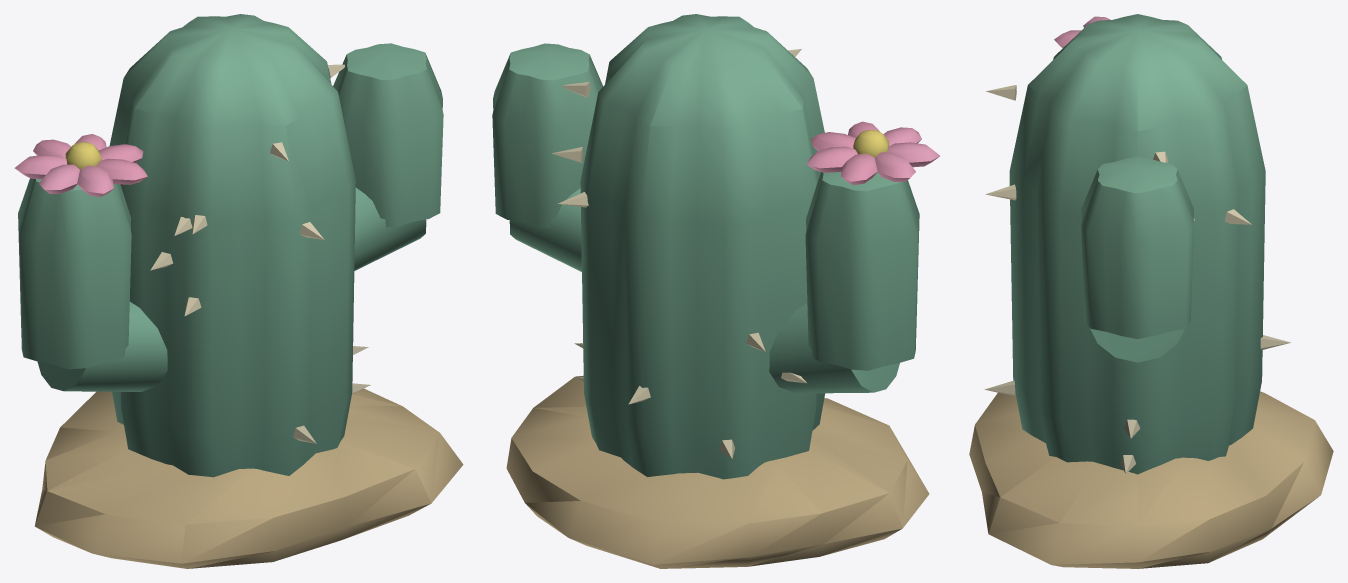
The model's file is cen_tarhut_cacto_1.glb.
3 renders of one model, left to right at view 1: azimuth 30°, elevation 25°; view 2: azimuth 150°, elevation 25°; view 3: azimuth 270°, elevation 25°, orthographic.
Visible parts, largest first — view 1: cacto; view 2: cacto; view 3: cacto.
Part boxes in pixels (x1,y1,x2,y2): cacto: (14,14,463,568); cacto: (492,14,939,568); cacto: (969,14,1333,568).
Bounding box in the file's own units: 1.4 × 1.48 × 1.07.
